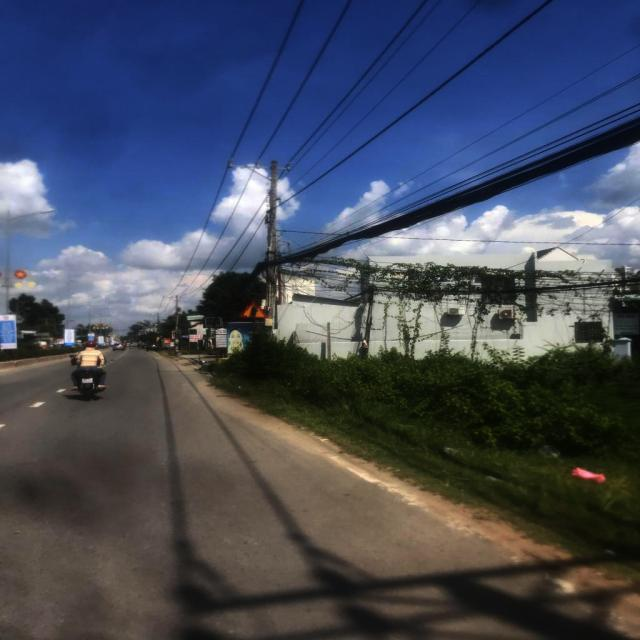giao_nhau_voi_duong_khong_uu_tien: (238, 297, 270, 318)
